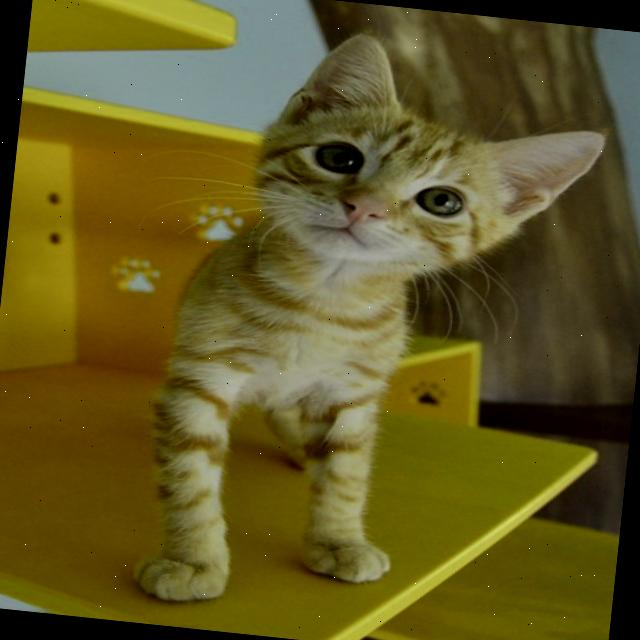domestic_short_hair_cat: (208, 12, 627, 324)
